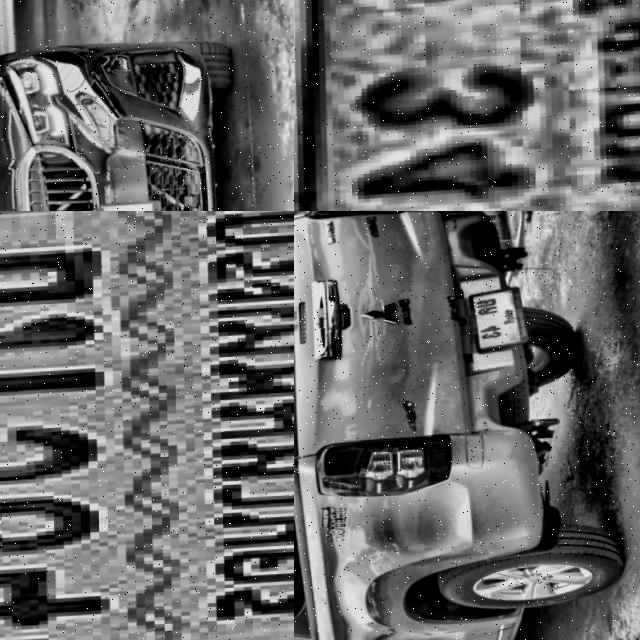license-plate: (0, 211, 294, 640), (294, 0, 640, 211), (467, 290, 527, 355)
